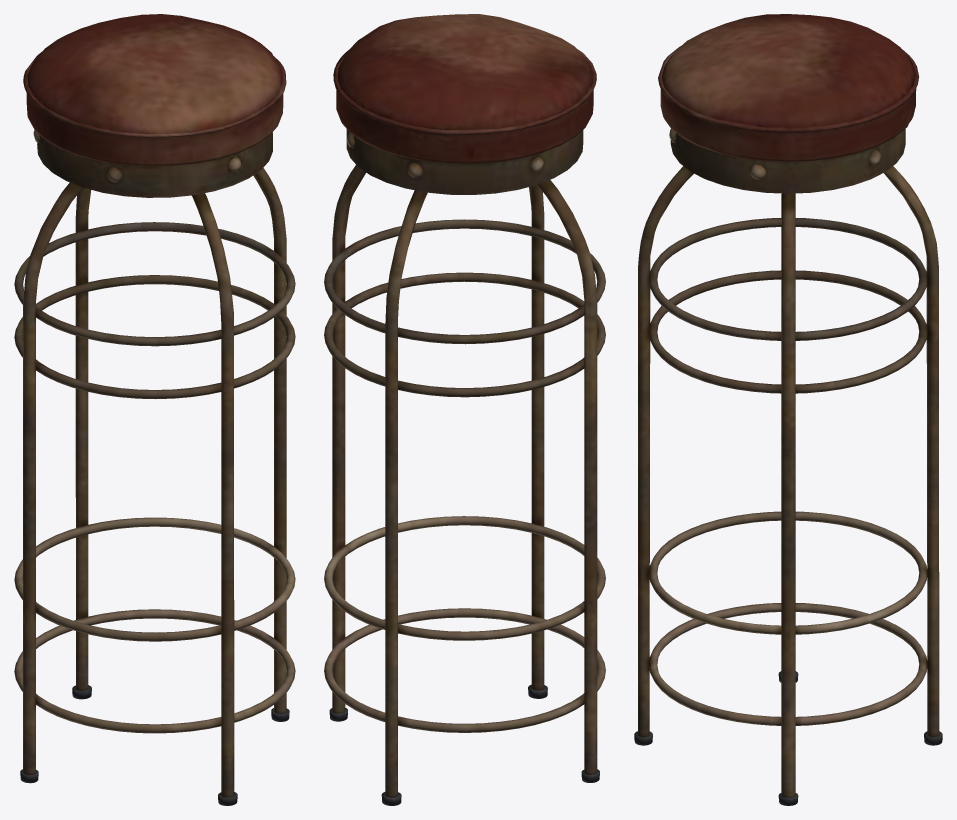
The model's file is stool-metal-01.lite.9c6e9cee.glb.
3 views of the same model, side by side, from view 1: azimuth 30°, elevation 25°; view 2: azimuth 150°, elevation 25°; view 3: azimuth 270°, elevation 25° (orthographic).
Parts seen in each view (by area): view 1: model; view 2: model; view 3: model.
Boxes of the visible parts, <box> form: model: <box>14,14,295,805</box>; model: <box>324,14,605,805</box>; model: <box>634,14,942,805</box>.
Size of the model in its own units: 0.352 by 0.8824 by 0.3546.
Materials: 1 (1 with a texture image).
